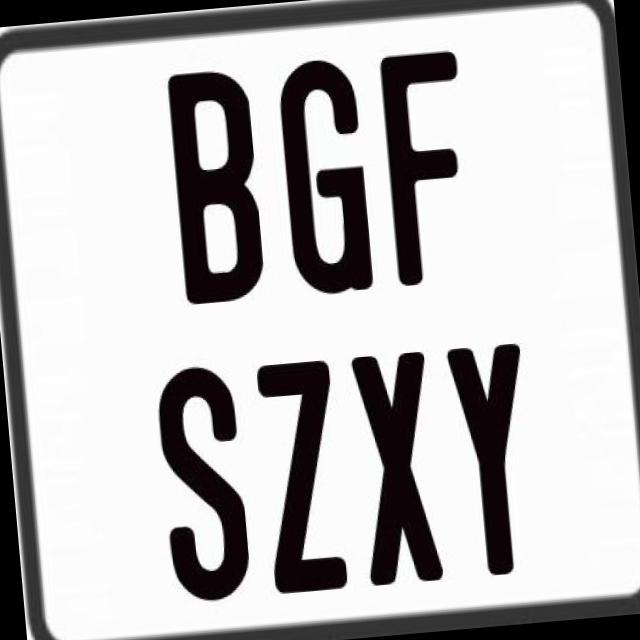B: (164, 66, 267, 312)
F: (374, 49, 481, 296)
G: (274, 55, 377, 300)
S: (150, 360, 254, 604)
X: (347, 348, 439, 586)
Y: (444, 341, 539, 582)
Z: (251, 360, 349, 594)
